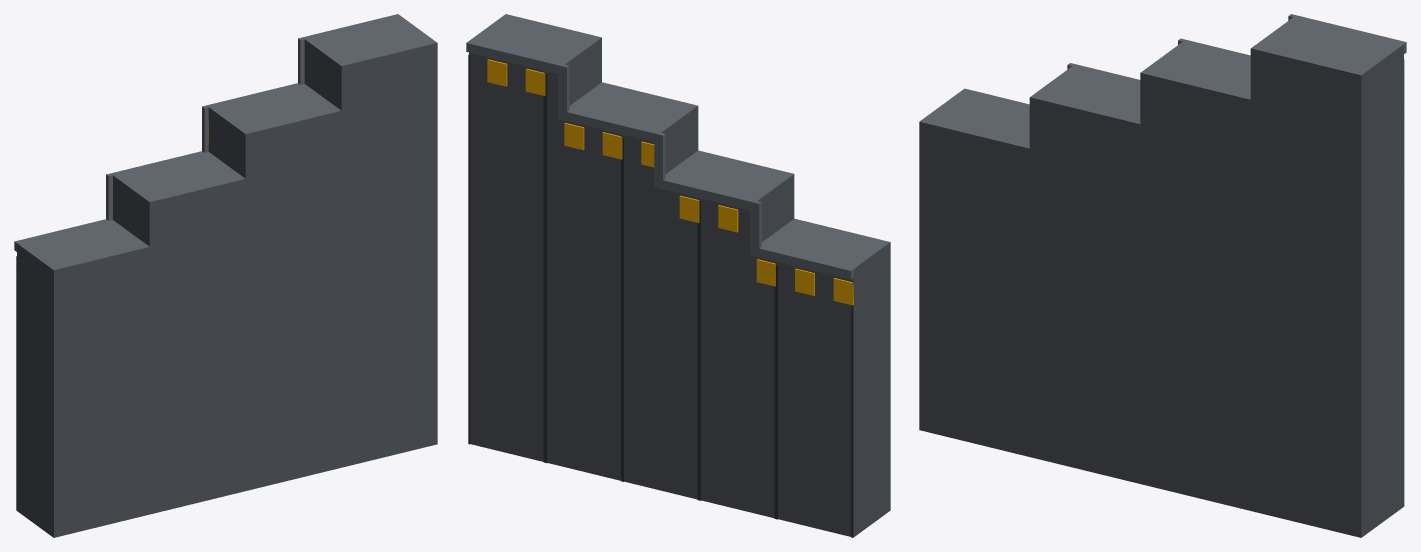
3 renders of one model, left to right at view 1: azimuth 30°, elevation 25°; view 2: azimuth 150°, elevation 25°; view 3: azimuth 330°, elevation 25°, orthographic. The views are drawn at different scales.
Parts seen in each view (by area): view 1: s1w; view 2: s1w; view 3: s1w.
Boxes of the visible parts, bbox=[...] form: s1w: bbox=[14, 14, 437, 537]; s1w: bbox=[466, 14, 890, 537]; s1w: bbox=[919, 14, 1406, 537].
Size of the model in its own units: 9 by 9 by 1.6.
